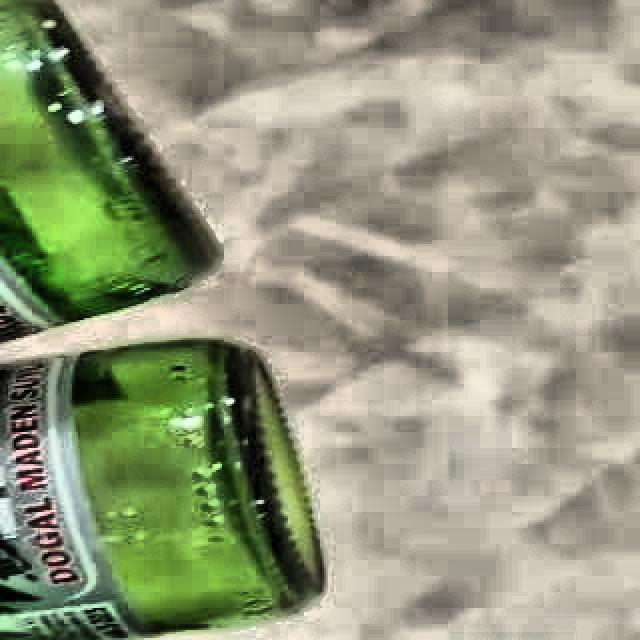glass: (0, 340, 323, 640)
